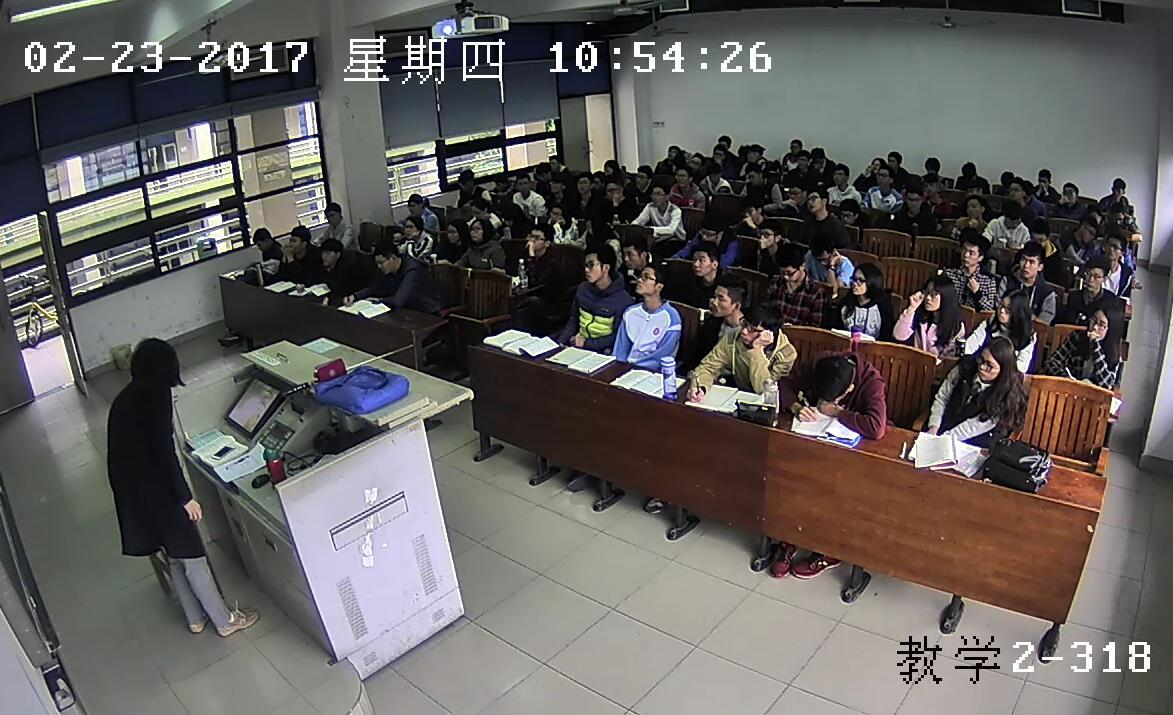head: (126, 333, 183, 394), (806, 350, 857, 403), (971, 334, 1017, 382), (739, 301, 784, 346), (573, 243, 621, 281), (708, 276, 746, 321), (1085, 303, 1124, 346), (772, 243, 808, 288), (997, 287, 1033, 332), (918, 273, 956, 314), (631, 264, 667, 301), (849, 261, 883, 299), (689, 237, 722, 276), (809, 228, 841, 266), (1081, 254, 1113, 291), (621, 234, 652, 271), (1016, 243, 1042, 281), (373, 241, 400, 277), (958, 232, 985, 268), (754, 218, 783, 250), (1100, 235, 1128, 268), (696, 213, 723, 244), (525, 220, 551, 251), (582, 207, 607, 239), (466, 216, 494, 243), (287, 224, 313, 253), (1000, 203, 1022, 237), (1077, 213, 1099, 246), (737, 195, 762, 224), (784, 177, 808, 207), (835, 194, 858, 225), (318, 239, 344, 266), (1060, 178, 1083, 208), (251, 223, 276, 250), (498, 200, 522, 227), (1026, 220, 1050, 247), (650, 176, 671, 205), (321, 201, 344, 227), (444, 218, 467, 244), (547, 202, 570, 228), (904, 181, 923, 212), (807, 187, 828, 215), (403, 190, 426, 215), (809, 140, 829, 166), (400, 216, 422, 239), (1106, 201, 1127, 225), (606, 180, 626, 205), (631, 165, 651, 190), (467, 197, 489, 219), (966, 174, 987, 197), (532, 158, 551, 183), (706, 157, 724, 183), (455, 169, 476, 191), (963, 195, 984, 217), (1036, 165, 1056, 188), (925, 153, 944, 177), (919, 174, 939, 196), (745, 160, 763, 184), (874, 164, 892, 187), (959, 158, 977, 181), (884, 147, 901, 171), (831, 162, 849, 184), (1085, 202, 1103, 224), (1009, 177, 1026, 200), (1110, 176, 1127, 199), (675, 166, 691, 189), (491, 170, 510, 189), (744, 141, 762, 161), (1000, 169, 1017, 190), (549, 170, 565, 192), (785, 134, 803, 153), (514, 172, 531, 191), (546, 149, 563, 168), (602, 158, 619, 177), (576, 172, 592, 191), (868, 157, 884, 176), (664, 142, 679, 162), (688, 152, 704, 170), (717, 131, 731, 151), (797, 148, 810, 168), (591, 170, 605, 188), (713, 143, 726, 160)
